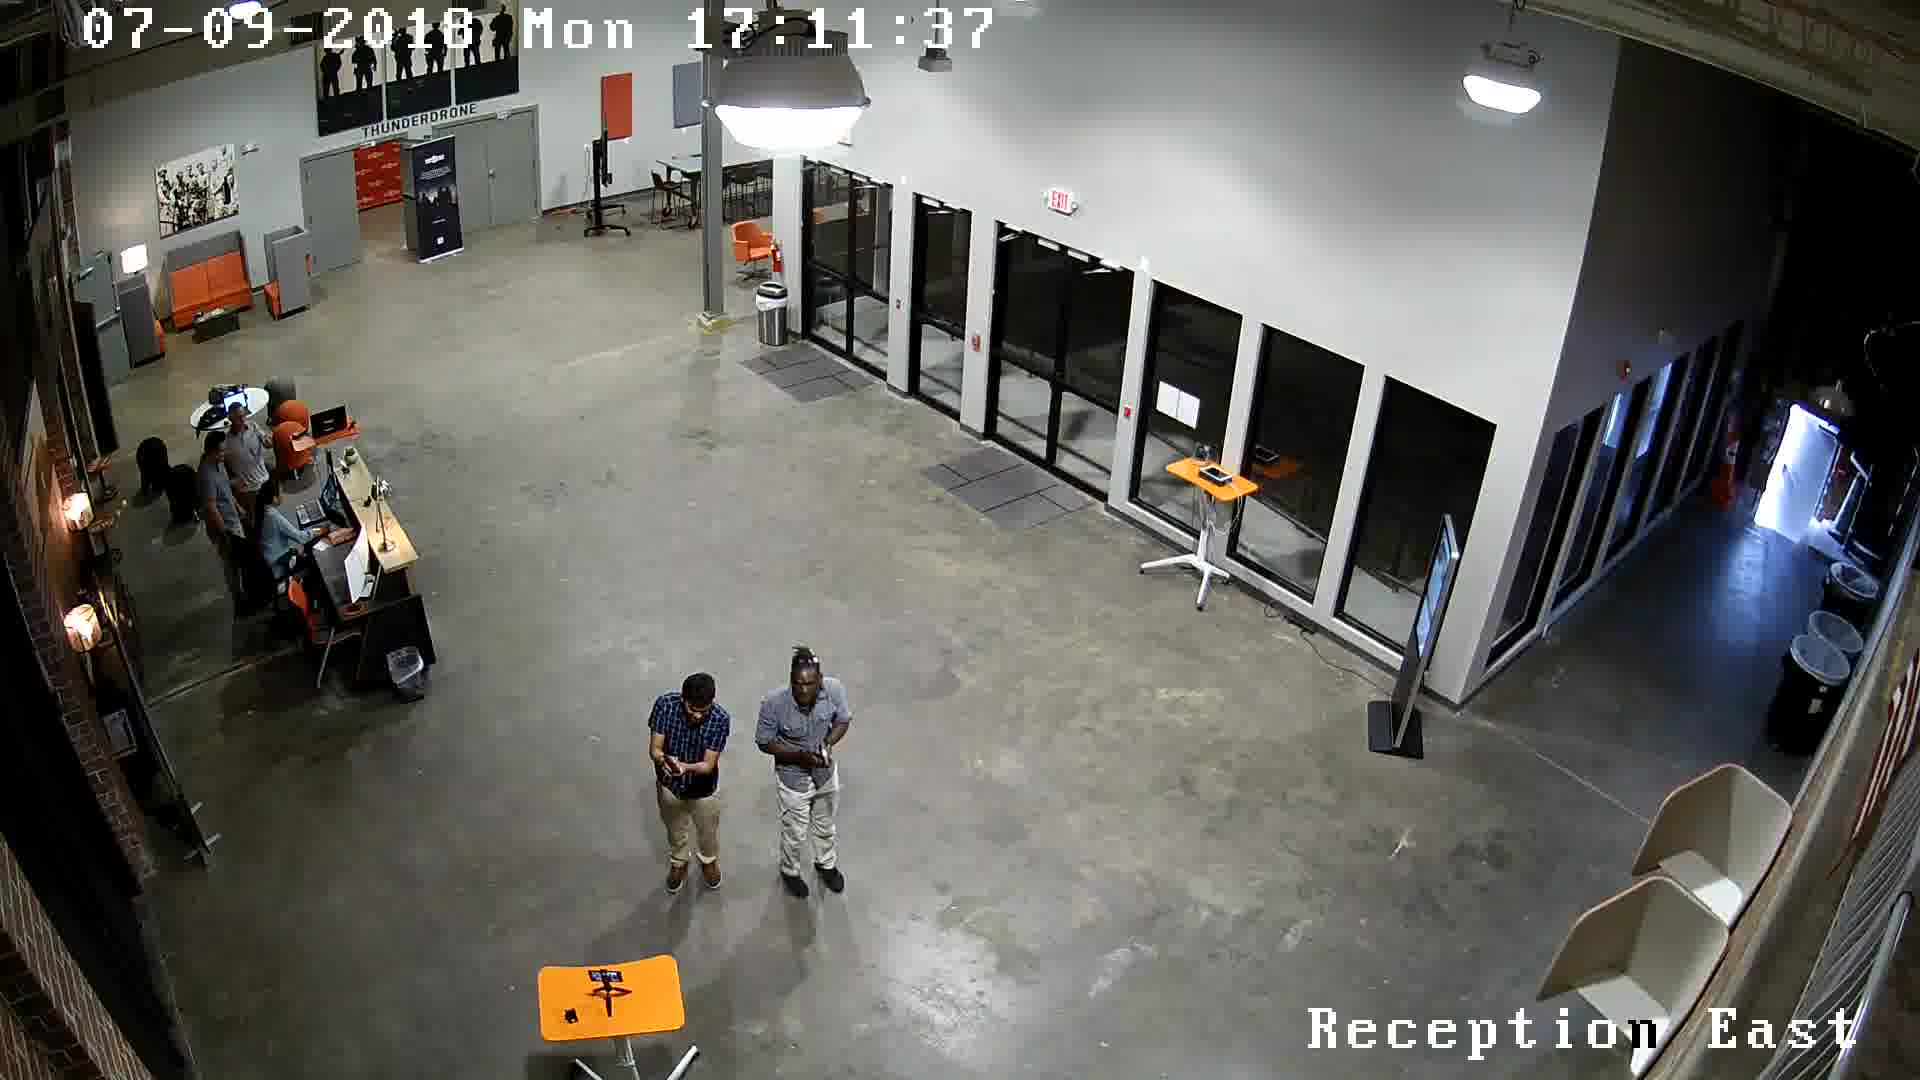pistol: (800, 736, 847, 786), (649, 746, 688, 796)
